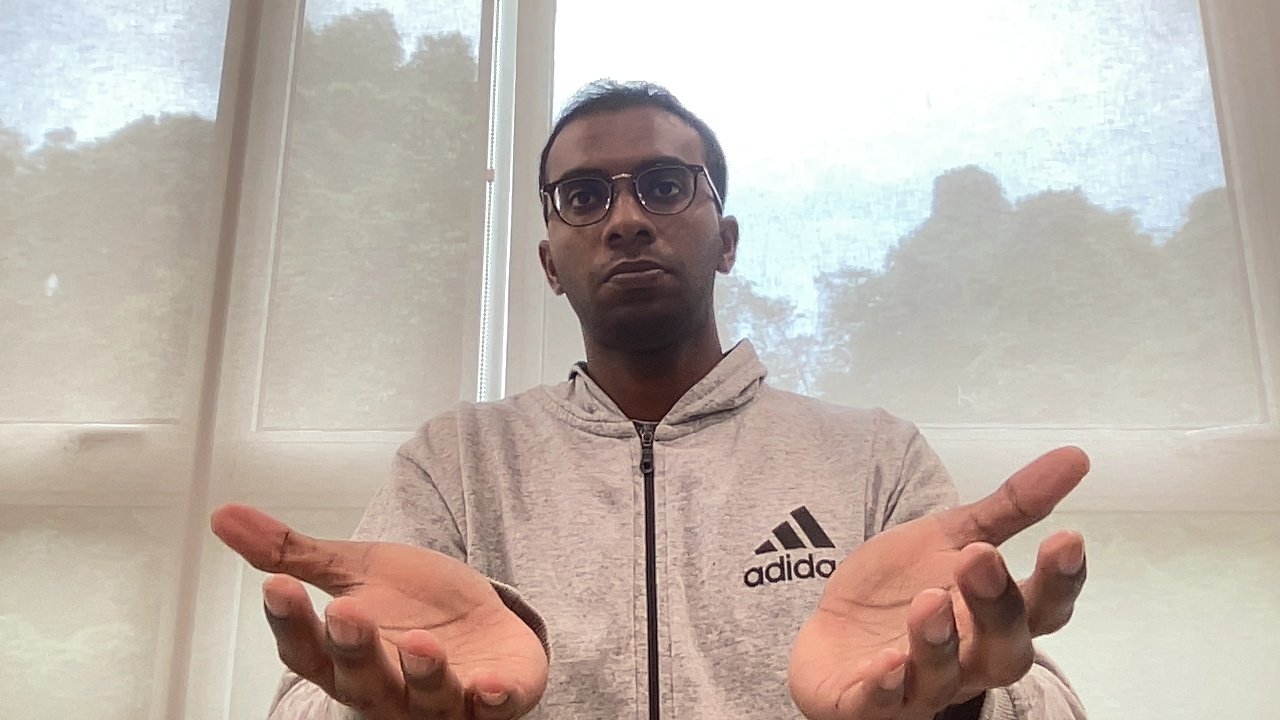give: (200, 444, 1108, 720)
